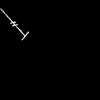treble_crochet: (3, 11, 27, 39)
